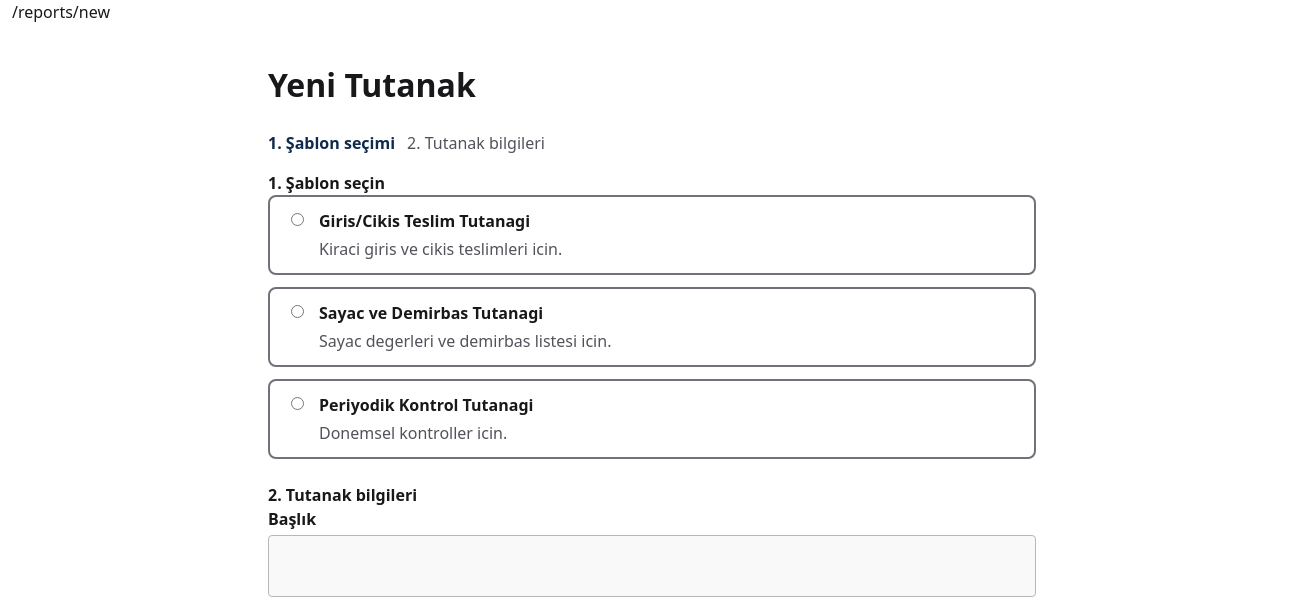
Test: ReportCreatePage › sablon secimi (kriter 2) › sablon secildiginde baslik ve not alanlari erisilebilir olur
The width and height of the screenshot is (1292, 614).
Click the radio button labelled "Giris/Cikis Teslim Tutanagi": (298, 219) left=291, top=213, right=304, bottom=226
(page scrolled)
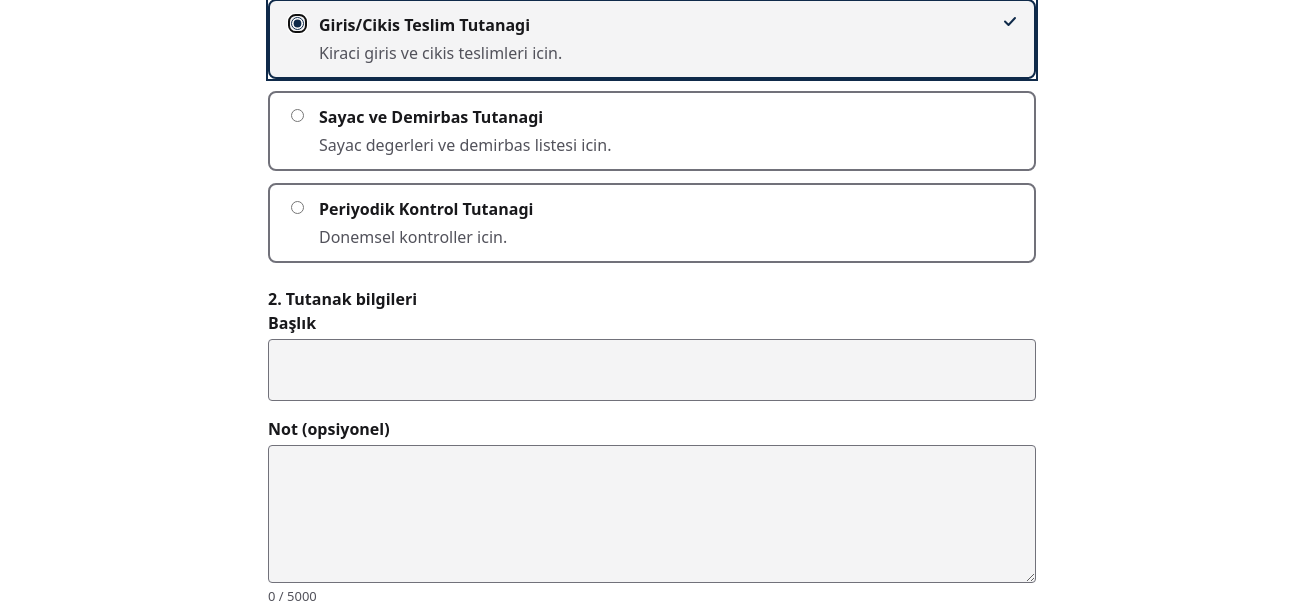
Expected: the field labelled "Başlık" is enabled, left=268, top=339, right=1036, bottom=401
Expected: the text box labelled "Not (opsiyonel)" is enabled, left=268, top=445, right=1036, bottom=583
